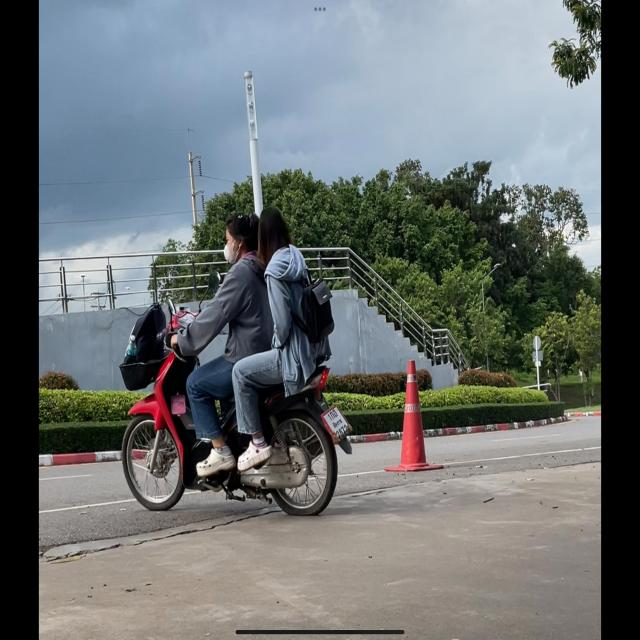seatbelt: (223, 214, 250, 264), (258, 206, 284, 257)
